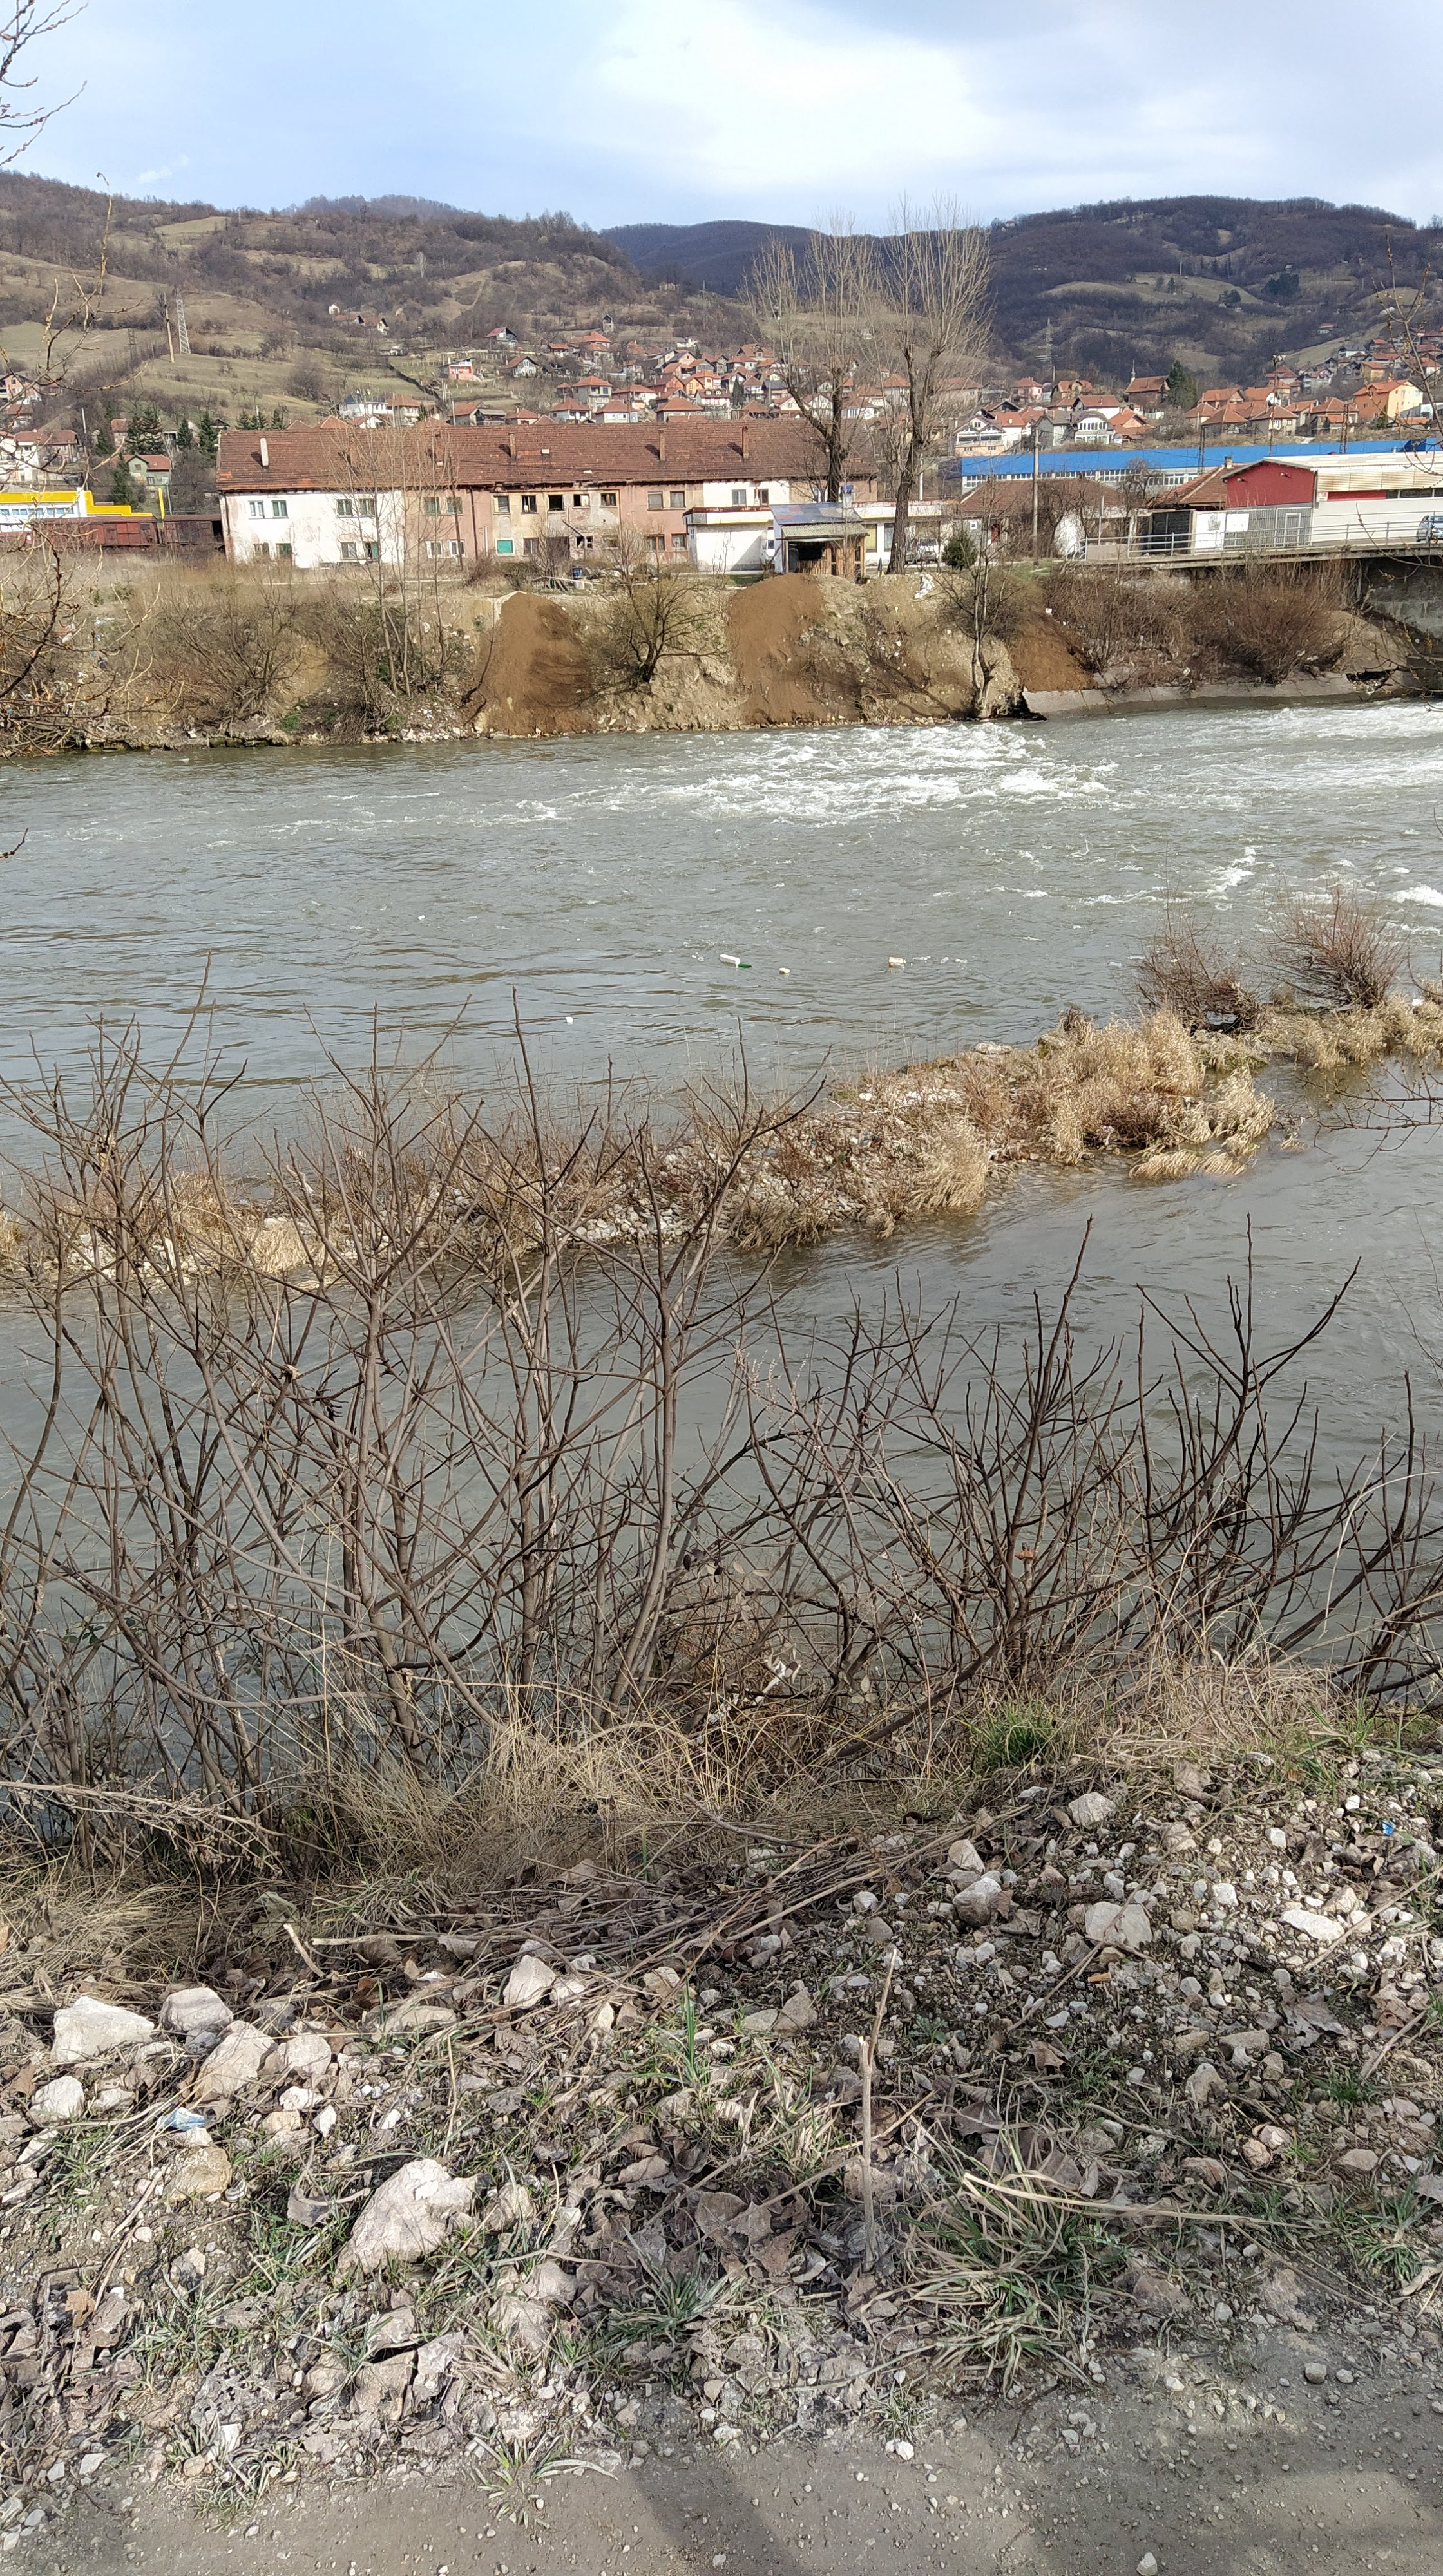Plastic Bottle: (719, 954, 740, 964), (954, 957, 967, 964), (889, 957, 905, 962), (1126, 954, 1142, 959), (779, 966, 790, 973), (1110, 961, 1121, 966), (565, 1016, 572, 1023), (740, 964, 752, 968), (891, 964, 903, 968), (940, 957, 947, 962)
